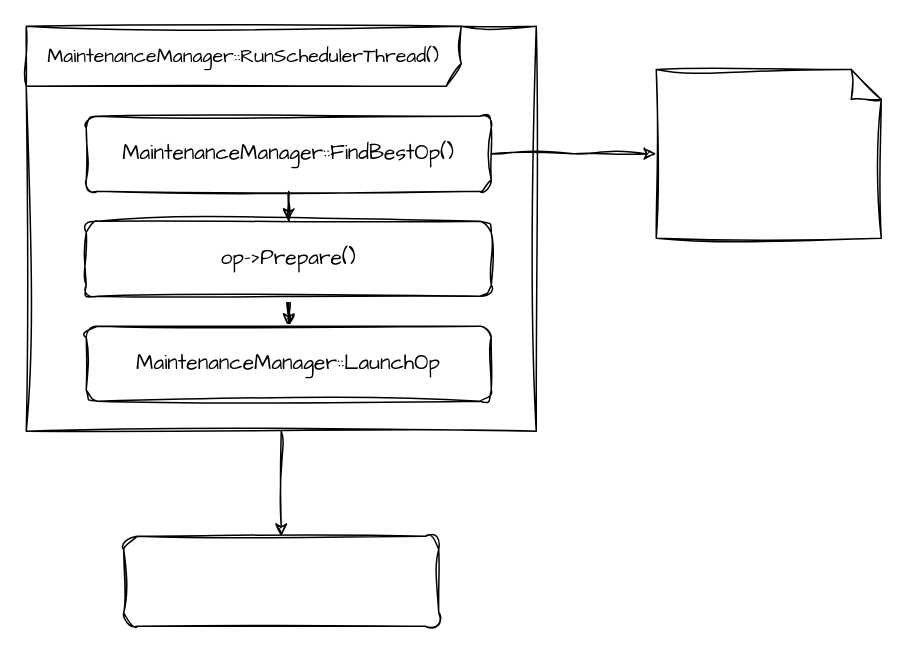
Some shapes in this 908 by 653 pixel diagram are drawn without their labels. Here are the shapes that lost their labels. From the top down, the centre of each, then its label:
(x=768, y=153): 根据一些策略找到当时最应该运行的的 MaintenanceOp，具体可参考函数注释
(x=280, y=580): op->Perform()
